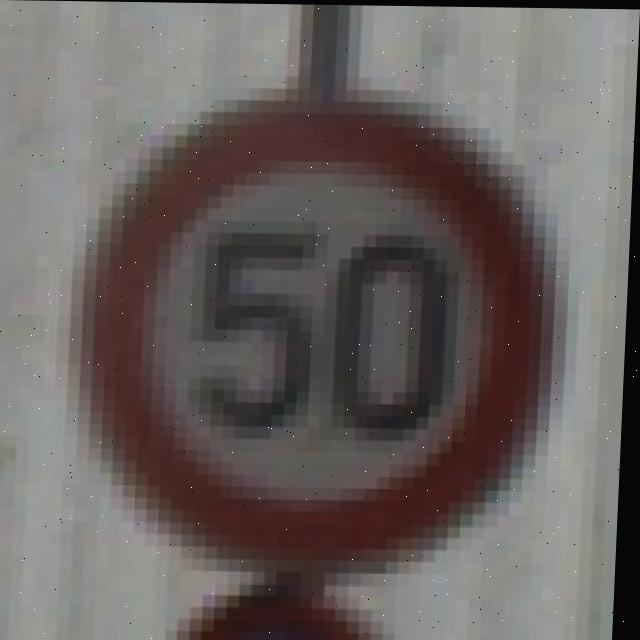Speed limit 50: (71, 90, 569, 566)
